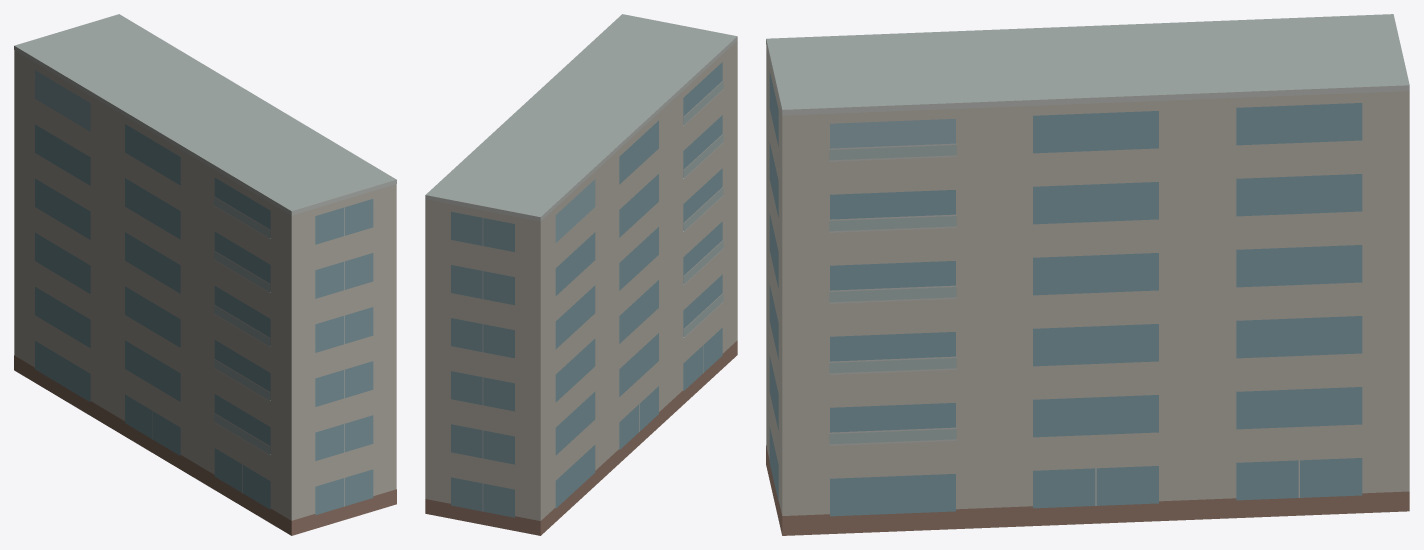
File: survey-upis-32635294.glb
3 views of the same model, side by side, from view 1: azimuth 30°, elevation 25°; view 2: azimuth 150°, elevation 25°; view 3: azimuth 270°, elevation 25° (orthographic). The views are drawn at different scales.
Visible parts, largest first — view 1: survey-upis-32635294.tmp; view 2: survey-upis-32635294.tmp; view 3: survey-upis-32635294.tmp.
Boxes of the visible parts, bbox=[...] form: survey-upis-32635294.tmp: bbox=[14, 14, 396, 535]; survey-upis-32635294.tmp: bbox=[425, 14, 737, 535]; survey-upis-32635294.tmp: bbox=[766, 14, 1409, 535].
Size of the model in its own units: 8.84 by 18.3 by 25.07.
